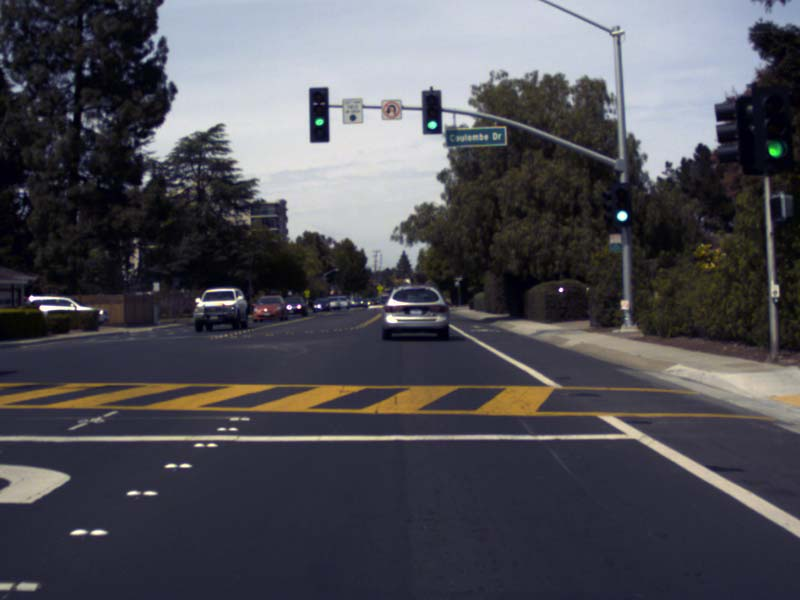Green: (754, 89, 789, 165), (309, 88, 328, 141), (422, 91, 441, 131), (612, 184, 630, 224)
